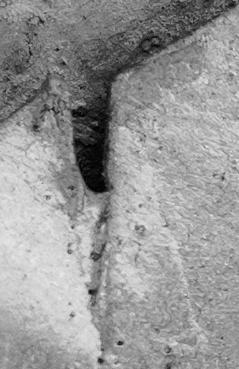crack: (1, 1, 239, 369)
